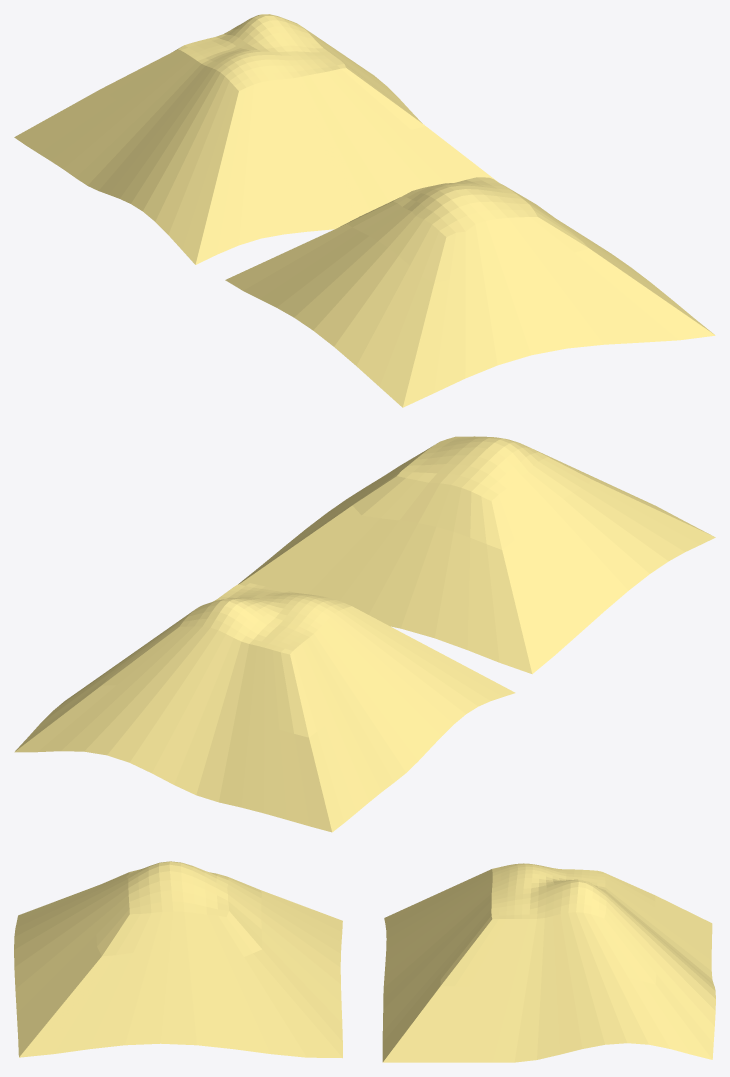
File: Islas.fbx
3 views of the same model, one above another, from view 1: azimuth 30°, elevation 25°; view 2: azimuth 150°, elevation 25°; view 3: azimuth 270°, elevation 25° (orthographic). The views are drawn at different scales.
Visible parts, largest first — view 1: Isla2, Isla1; view 2: Isla2, Isla1; view 3: Isla2, Isla1.
Boxes of the visible parts, x1,y1,x2,y2 form: Isla2: (14, 14, 497, 264); Isla1: (225, 177, 715, 407); Isla2: (14, 583, 515, 832); Isla1: (238, 436, 715, 674); Isla2: (382, 863, 715, 1062); Isla1: (14, 861, 342, 1058).
Size of the model in its own units: 3398 by 1328 by 7033.
